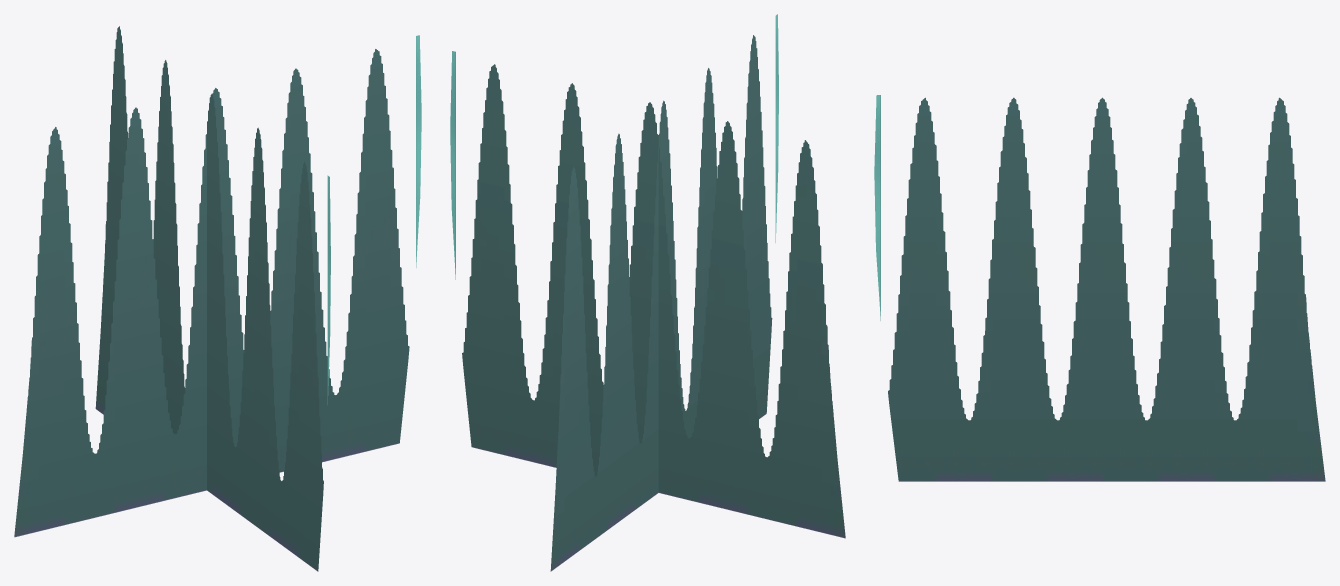
The model's file is grass_tuft_b.glb.
3 views of the same model, side by side, from view 1: azimuth 30°, elevation 25°; view 2: azimuth 150°, elevation 25°; view 3: azimuth 270°, elevation 25° (orthographic). The views are drawn at different scales.
Visible parts, largest first — view 1: lod0; view 2: lod0; view 3: lod0.
Boxes of the visible parts, x1=… form: lod0: x1=14, y1=26, x2=421, y2=571; lod0: x1=450, y1=14, x2=845, y2=571; lod0: x1=874, y1=95, x2=1325, y2=481.
Size of the model in its own units: 0.74 by 0.7 by 0.74.
Materials: 1 (1 with a texture image).
